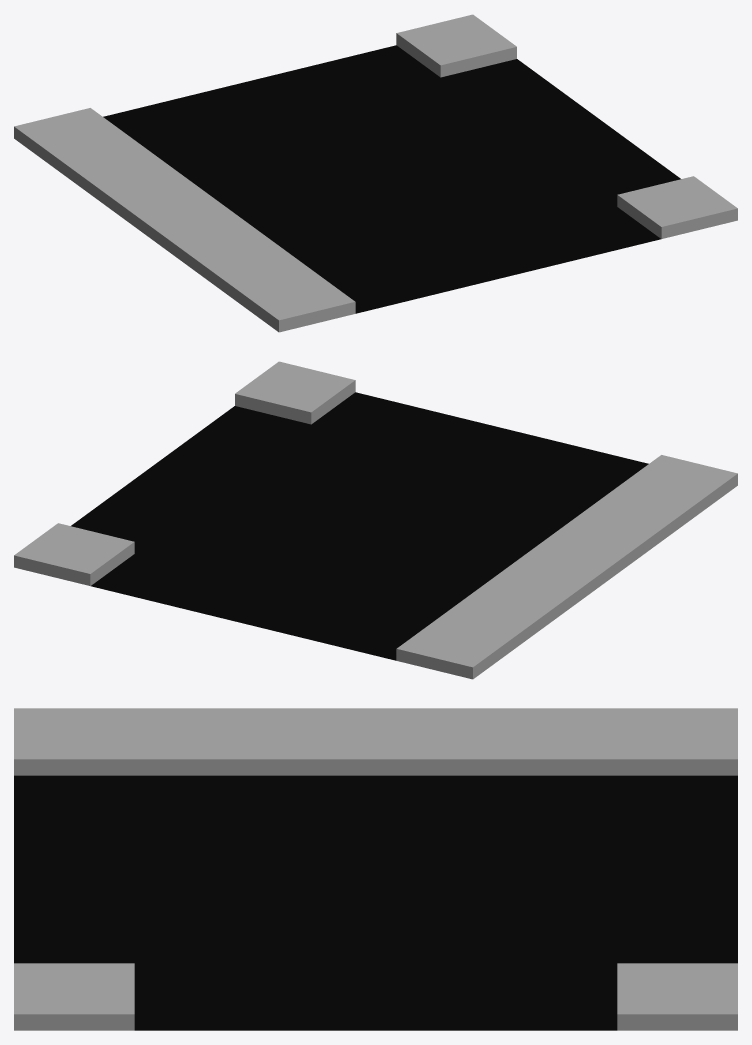
Rendered from Not Walking Road2.001_Material.004.glb.
3 renders of one model, top to bottom at view 1: azimuth 30°, elevation 25°; view 2: azimuth 150°, elevation 25°; view 3: azimuth 270°, elevation 25°, orthographic. The views are drawn at different scales.
Visible parts, largest first — view 1: Not Walking Road2.001_Material.004_0; view 2: Not Walking Road2.001_Material.004_0; view 3: Not Walking Road2.001_Material.004_0.
Boxes of the visible parts, bbox=[...] form: Not Walking Road2.001_Material.004_0: bbox=[14, 14, 737, 332]; Not Walking Road2.001_Material.004_0: bbox=[14, 361, 737, 679]; Not Walking Road2.001_Material.004_0: bbox=[14, 708, 737, 1030].
Bounding box in the file's own units: 2 × 0.0504 × 2.
1 material, 1 textured.
